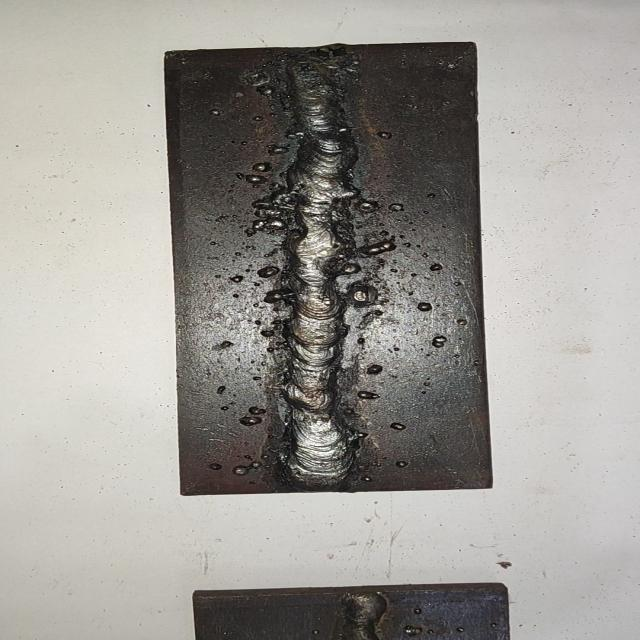Bad Weld: (272, 50, 360, 485)
Defect: (235, 175, 397, 247), (248, 45, 382, 100), (340, 590, 396, 638), (332, 278, 390, 310)
